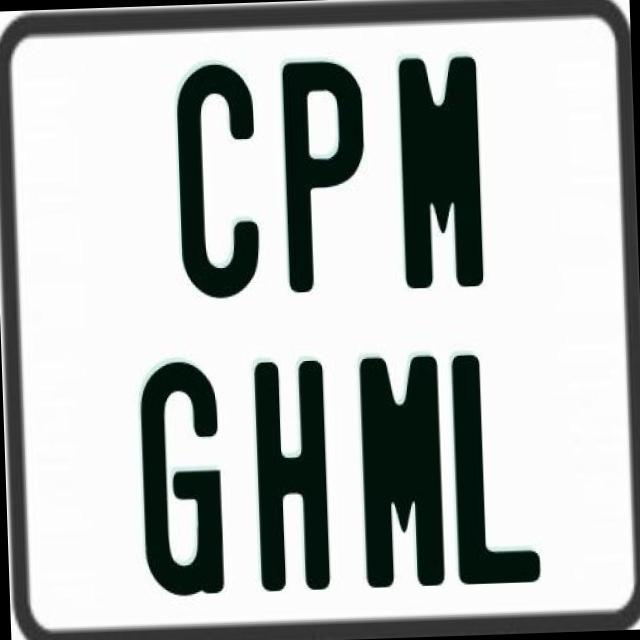C: (173, 60, 264, 304)
G: (136, 361, 222, 604)
H: (253, 360, 329, 592)
L: (451, 349, 544, 581)
M: (356, 350, 446, 584), (398, 50, 483, 292)
P: (278, 57, 368, 300)
